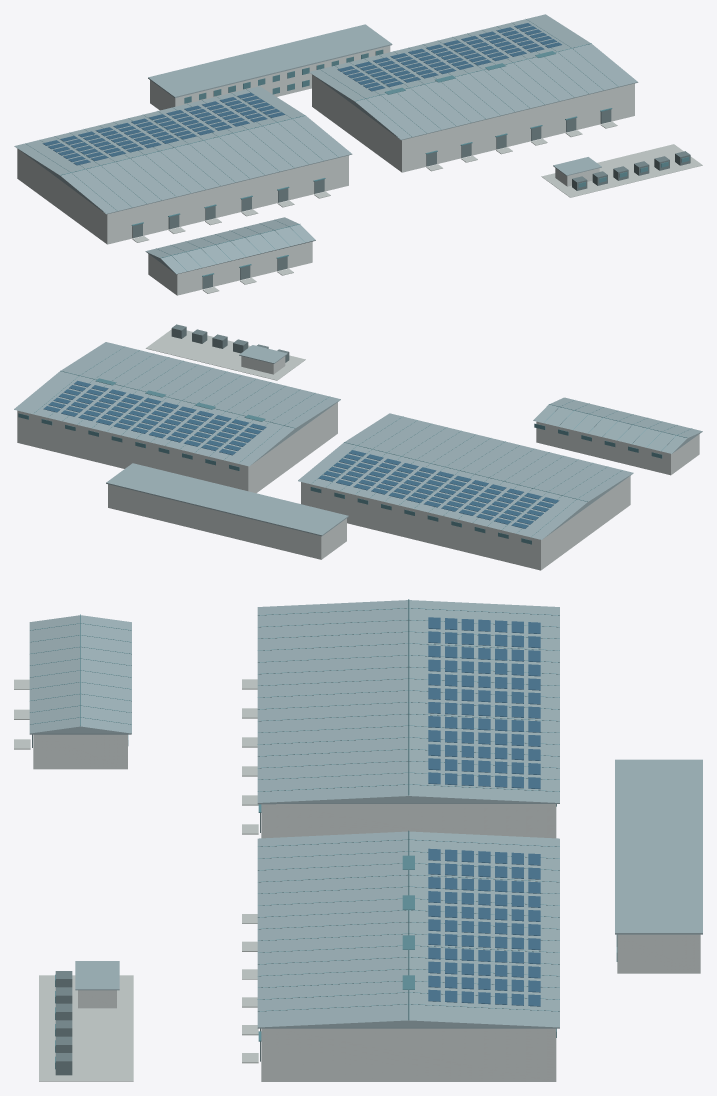
Rendered from buildings.glb.
The picture shows the model from 3 angles, top to bottom: view 1: azimuth 30°, elevation 25°; view 2: azimuth 150°, elevation 25°; view 3: azimuth 270°, elevation 25°; orthographic projection. The views are drawn at different scales.
Parts seen in each view (by area): view 1: battery_tray_line_roof, electric_drive_line_roof, electric_drive_line_wall, battery_tray_line_wall, quality_and_office_roof, material_receiving_roof, material_receiving_wall, quality_and_office_wall, compressed_air_and_power_slab, compressed_air_and_power_control_roof; view 2: battery_tray_line_roof, electric_drive_line_roof, battery_tray_line_wall, electric_drive_line_wall, quality_and_office_roof, quality_and_office_wall, material_receiving_roof, material_receiving_wall, compressed_air_and_power_slab, compressed_air_and_power_control_roof, compressed_air_and_power_control; view 3: battery_tray_line_roof, electric_drive_line_roof, electric_drive_line_wall, quality_and_office_roof, material_receiving_roof, battery_tray_line_wall, compressed_air_and_power_slab, material_receiving_wall, quality_and_office_wall, compressed_air_and_power_control_roof, compressed_air_and_power_control.
Boxes of the visible parts, bbox=[...] form: battery_tray_line_roof: bbox=[14, 86, 352, 214]; electric_drive_line_roof: bbox=[309, 14, 638, 140]; electric_drive_line_wall: bbox=[312, 75, 634, 172]; battery_tray_line_wall: bbox=[17, 149, 348, 244]; quality_and_office_roof: bbox=[148, 24, 392, 97]; material_receiving_roof: bbox=[145, 217, 315, 274]; material_receiving_wall: bbox=[148, 241, 312, 295]; quality_and_office_wall: bbox=[150, 45, 390, 110]; compressed_air_and_power_slab: bbox=[541, 144, 702, 197]; compressed_air_and_power_control_roof: bbox=[553, 157, 601, 175]; battery_tray_line_roof: bbox=[298, 413, 633, 539]; electric_drive_line_roof: bbox=[14, 342, 340, 466]; battery_tray_line_wall: bbox=[301, 476, 630, 570]; electric_drive_line_wall: bbox=[17, 402, 337, 493]; quality_and_office_roof: bbox=[106, 463, 348, 536]; quality_and_office_wall: bbox=[108, 484, 346, 559]; material_receiving_roof: bbox=[533, 397, 702, 453]; material_receiving_wall: bbox=[536, 421, 699, 475]; compressed_air_and_power_slab: bbox=[146, 329, 305, 380]; compressed_air_and_power_control_roof: bbox=[239, 345, 287, 363]; compressed_air_and_power_control: bbox=[241, 356, 285, 374]; battery_tray_line_roof: bbox=[257, 600, 559, 804]; electric_drive_line_roof: bbox=[257, 831, 559, 1028]; electric_drive_line_wall: bbox=[261, 1028, 556, 1081]; quality_and_office_roof: bbox=[615, 759, 702, 934]; material_receiving_roof: bbox=[29, 615, 131, 734]; battery_tray_line_wall: bbox=[261, 804, 556, 838]; compressed_air_and_power_slab: bbox=[39, 975, 133, 1081]; material_receiving_wall: bbox=[33, 734, 127, 769]; quality_and_office_wall: bbox=[617, 934, 700, 973]; compressed_air_and_power_control_roof: bbox=[75, 961, 119, 990]; compressed_air_and_power_control: bbox=[78, 990, 116, 1008].
Bounding box in the file's own units: 180 × 12.74 × 124.
